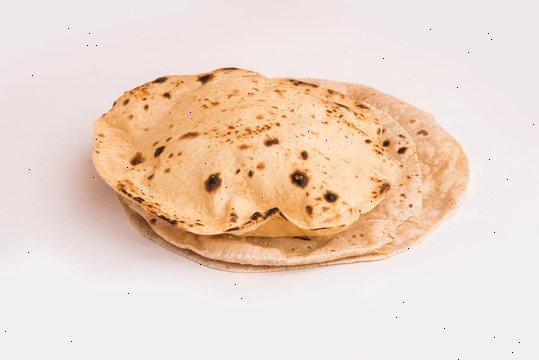roti phulka: (92, 71, 472, 276)
